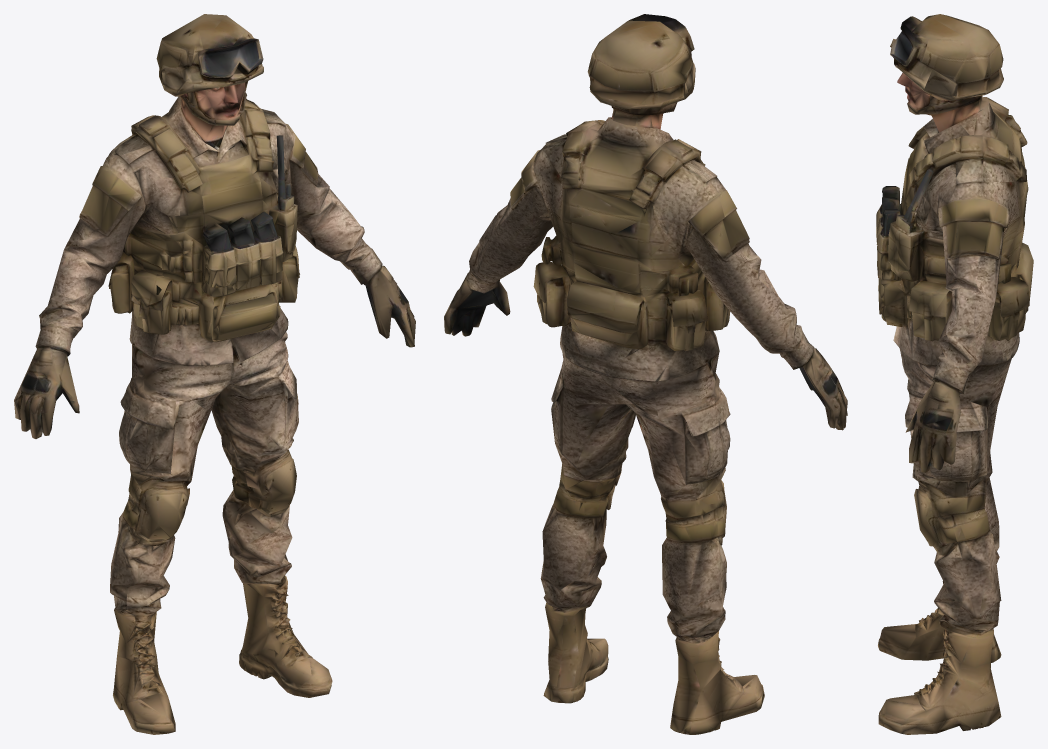
The model's file is soldier_iq_2.glb.
The picture shows the model from 3 angles, left to right: view 1: azimuth 30°, elevation 25°; view 2: azimuth 150°, elevation 25°; view 3: azimuth 270°, elevation 25°; orthographic projection.
Parts seen in each view (by area): view 1: node_0; view 2: node_0; view 3: node_0.
Part boxes in pixels (left/top/right/bottom): node_0: left=14, top=14, right=415, bottom=734; node_0: left=444, top=14, right=847, bottom=734; node_0: left=876, top=14, right=1033, bottom=734.
Size of the model in its own units: 0.7011 by 1.15 by 0.2444.
1 material, 1 textured.
